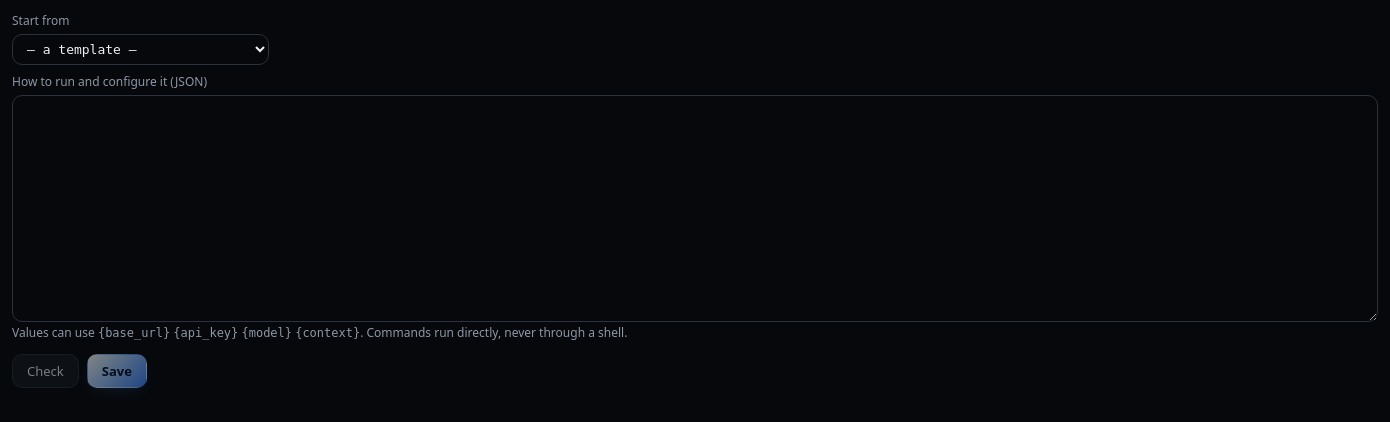
Test: CustomAgentForm › a spec the server rejects shows the server's reason
Step 1. Click the text box labelled "How to run and configure it (JSON)" → (695, 208), box [12, 95, 1378, 322]
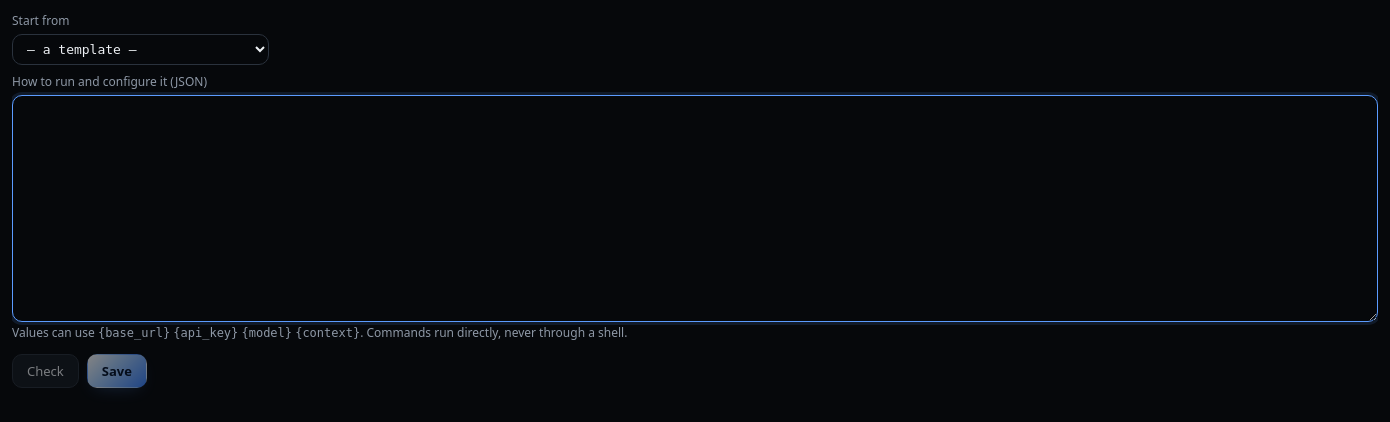
Step 2. Type keys "{\"name\":\"x\"}"
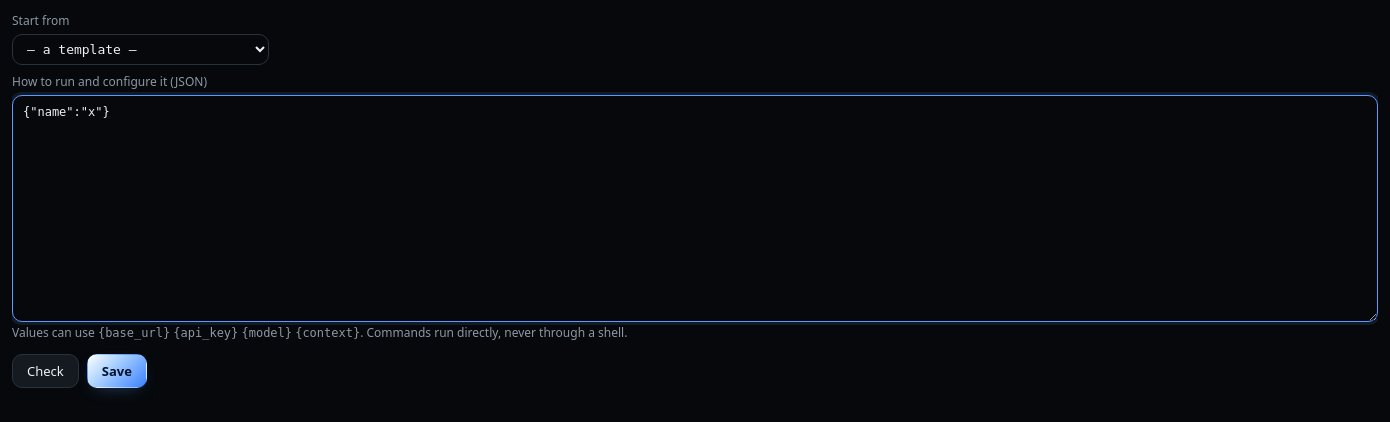
Step 3. Click the button "Check" → (45, 371), box [12, 354, 79, 388]
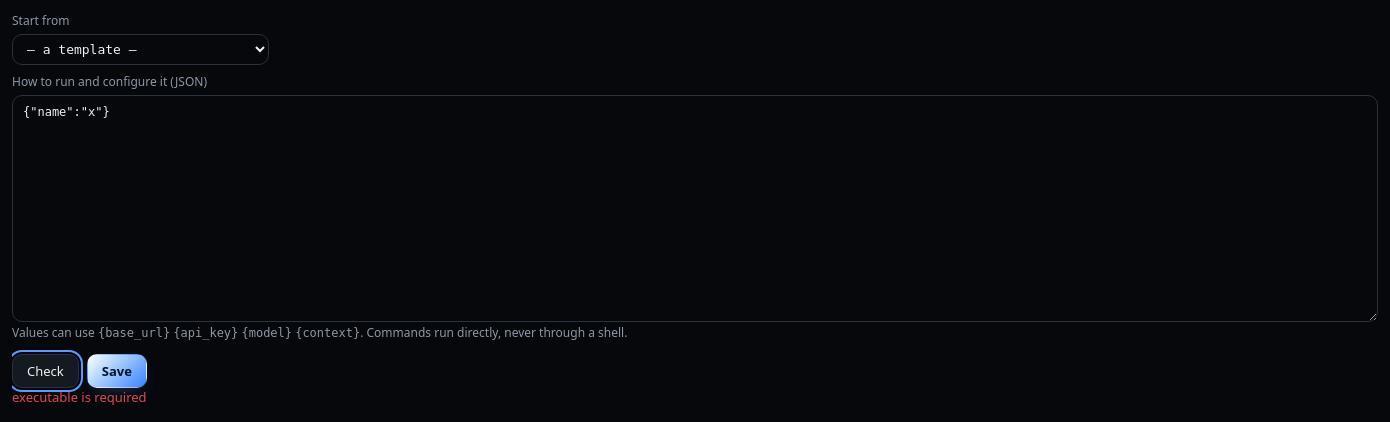
expect the text "executable is required" is shown: met, box [12, 388, 147, 406]
